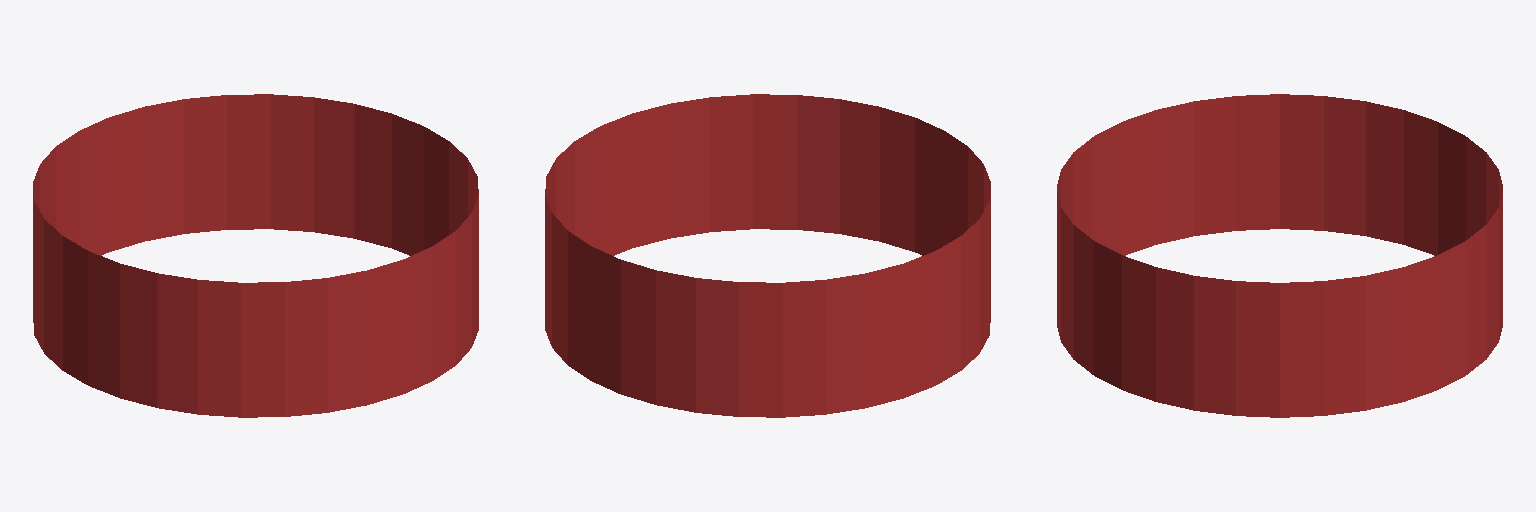
File: hollow_cylinder_red2.obj
The picture shows the model from 3 angles: view 1: azimuth 30°, elevation 25°; view 2: azimuth 150°, elevation 25°; view 3: azimuth 270°, elevation 25°; orthographic projection.
Visible parts, largest first — view 1: Cylinder; view 2: Cylinder; view 3: Cylinder.
Boxes of the visible parts, x1,y1,x2,y2 form: Cylinder: [33, 94, 478, 417]; Cylinder: [545, 94, 990, 417]; Cylinder: [1057, 94, 1502, 417].
Bounding box in the file's own units: 1.2 × 0.4 × 1.2.